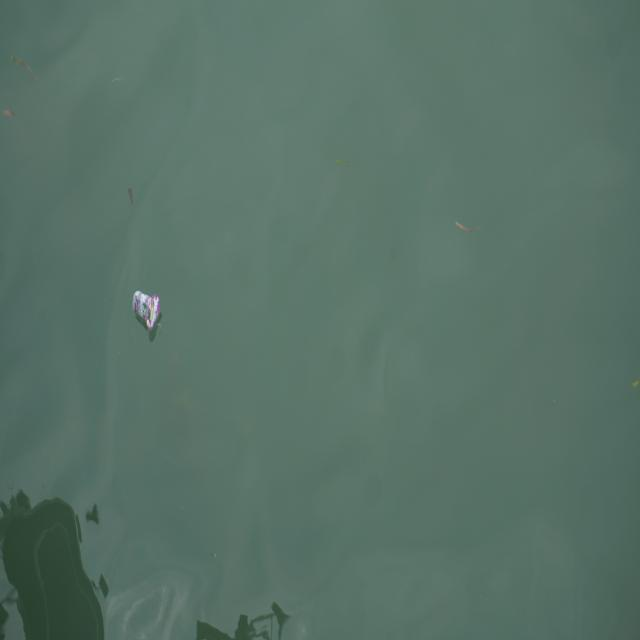Bungkus Minuman: (133, 289, 164, 338)
